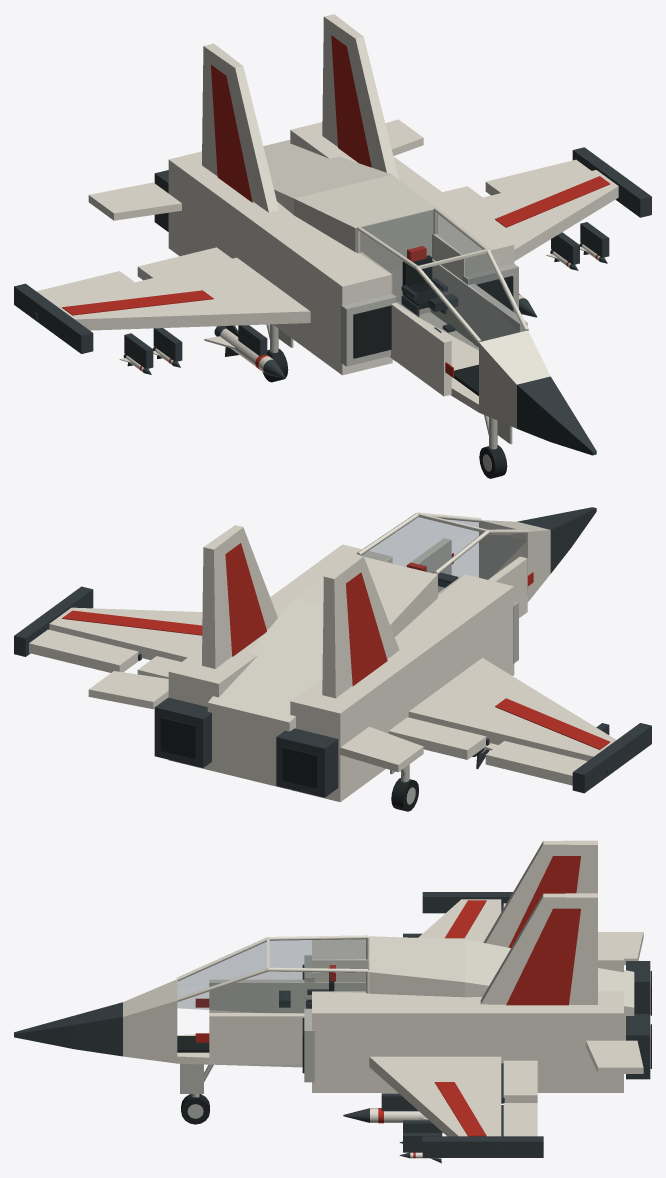
The picture shows the model from 3 angles, top to bottom: view 1: azimuth 30°, elevation 25°; view 2: azimuth 150°, elevation 25°; view 3: azimuth 270°, elevation 25°; orthographic projection. The views are drawn at different scales.
Visible parts, largest first — view 1: jet-b-fleet-armor, jet-b-fleet-glass, jet-b-fleet-machine, jet-b-fleet-red, jet-b-fleet-rubber, jet-b-fleet-edge, elevator-left-fleet-armor, crew-chair-pilot-painted, aileron-right-painted, flap-left-painted, aileron-left-painted, store-left-large-painted (+2 smaller); view 2: jet-b-fleet-armor, jet-b-fleet-machine, jet-b-fleet-red, jet-b-fleet-glass, aileron-right-painted, aileron-left-painted, jet-b-fleet-rubber, flap-left-painted, elevator-left-fleet-armor, elevator-right-fleet-armor, gear-wheel-left-0-0-painted, flap-right-painted; view 3: jet-b-fleet-armor, jet-b-fleet-machine, jet-b-fleet-glass, jet-b-fleet-red, elevator-right-fleet-armor, flap-right-painted, aileron-right-painted, jet-b-fleet-edge, store-right-large-painted, jet-b-fleet-rubber, landing-gear-nose-painted, gear-wheel-nose-0-0-painted (+2 smaller).
Part boxes in pixels (left/top/right/bottom): jet-b-fleet-armor: left=52, top=14, right=618, bottom=428; jet-b-fleet-glass: left=360, top=210, right=524, bottom=349; jet-b-fleet-machine: left=14, top=147, right=651, bottom=455; jet-b-fleet-red: left=62, top=35, right=609, bottom=377; jet-b-fleet-rubber: left=353, top=276, right=513, bottom=395; jet-b-fleet-edge: left=340, top=264, right=518, bottom=366; elevator-left-fleet-armor: left=88, top=182, right=181, bottom=220; crew-chair-pilot-painted: left=401, top=246, right=458, bottom=332; aileron-right-painted: left=485, top=159, right=591, bottom=195; flap-left-painted: left=137, top=247, right=231, bottom=280; aileron-left-painted: left=34, top=271, right=134, bottom=319; store-left-large-painted: left=204, top=325, right=285, bottom=378; jet-b-fleet-armor: left=49, top=512, right=616, bottom=802; jet-b-fleet-machine: left=14, top=507, right=651, bottom=797; jet-b-fleet-red: left=62, top=543, right=610, bottom=749; jet-b-fleet-glass: left=361, top=516, right=526, bottom=594; aileron-right-painted: left=29, top=629, right=141, bottom=672; aileron-left-painted: left=485, top=741, right=609, bottom=785; jet-b-fleet-rubber: left=160, top=717, right=317, bottom=788; flap-left-painted: left=388, top=717, right=489, bottom=759; elevator-left-fleet-armor: left=340, top=726, right=423, bottom=772; elevator-right-fleet-armor: left=88, top=671, right=168, bottom=709; gear-wheel-left-0-0-painted: left=391, top=778, right=418, bottom=811; flap-right-painted: left=137, top=656, right=181, bottom=678; jet-b-fleet-armor: left=123, top=840, right=634, bottom=1136; jet-b-fleet-machine: left=14, top=892, right=650, bottom=1157; jet-b-fleet-glass: left=177, top=938, right=367, bottom=1013; jet-b-fleet-red: left=195, top=856, right=580, bottom=1136; elevator-right-fleet-armor: left=586, top=1040, right=643, bottom=1073; flap-right-painted: left=501, top=1060, right=537, bottom=1103; aileron-right-painted: left=501, top=1103, right=537, bottom=1155; jet-b-fleet-edge: left=304, top=955, right=314, bottom=1082; store-right-large-painted: left=343, top=1108, right=442, bottom=1132; jet-b-fleet-rubber: left=177, top=964, right=651, bottom=1073; landing-gear-nose-painted: left=180, top=1063, right=213, bottom=1097; gear-wheel-nose-0-0-painted: left=181, top=1094, right=209, bottom=1124.
Size of the model in its own units: 64.6 by 30.39 by 69.47.
